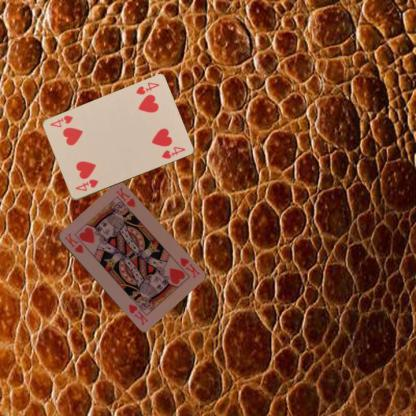4h: (134, 80, 160, 96), (73, 177, 99, 192)
Kh: (177, 255, 201, 280), (61, 230, 84, 255)
